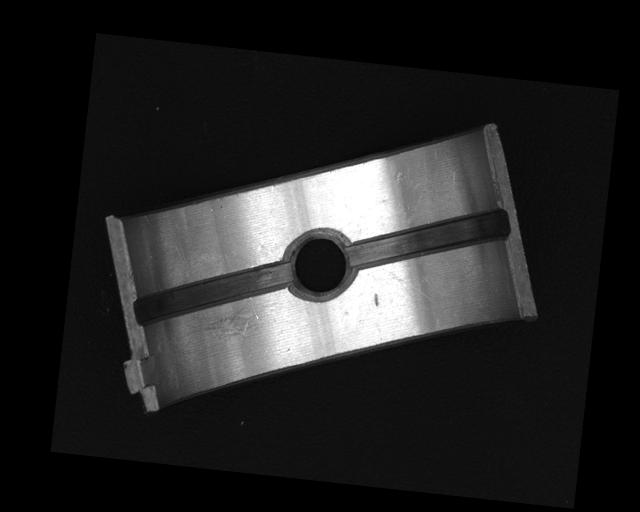bruise: (372, 292, 381, 308)
gap: (132, 245, 293, 340), (347, 195, 509, 282)
hole: (282, 228, 358, 301)
scratch: (185, 290, 274, 344)
